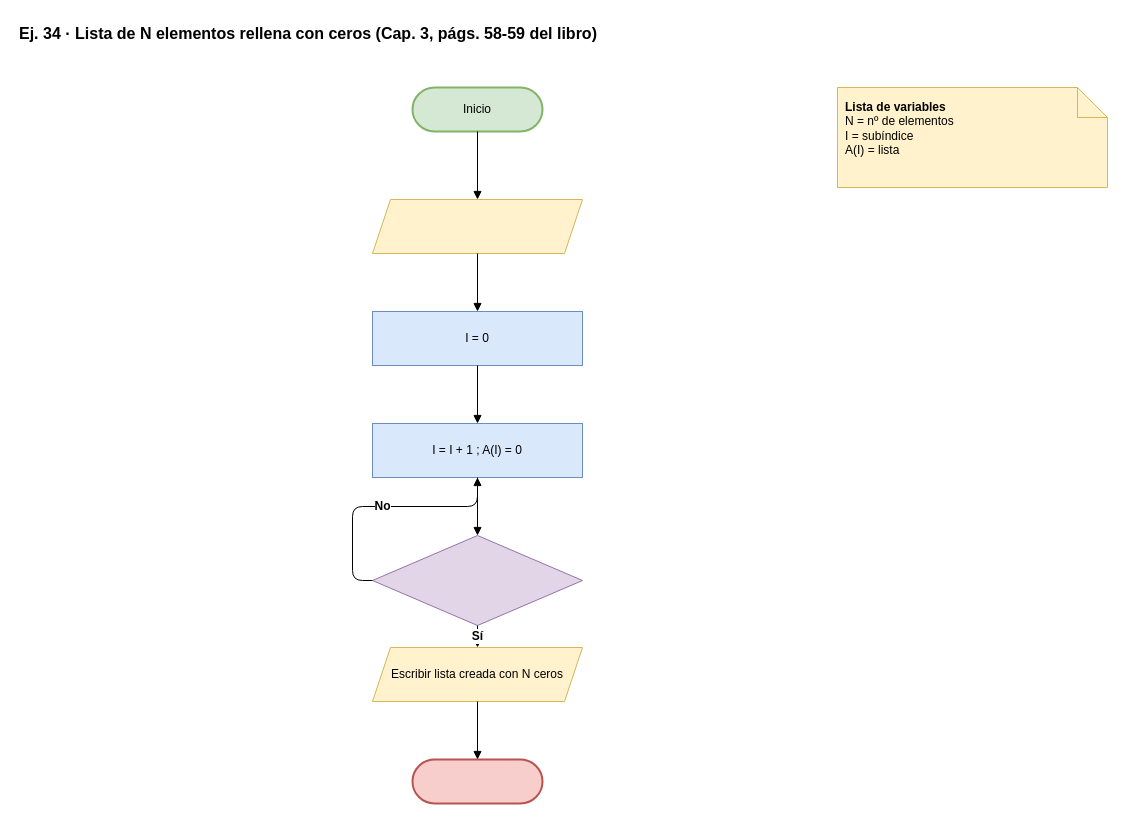
This 1125x821 diagram has some shape labels left out. Each missing label, with the box of its shape:
Fin: (411, 758, 543, 804)
I = N ?: (372, 534, 582, 626)
Leer N: (372, 198, 582, 254)
